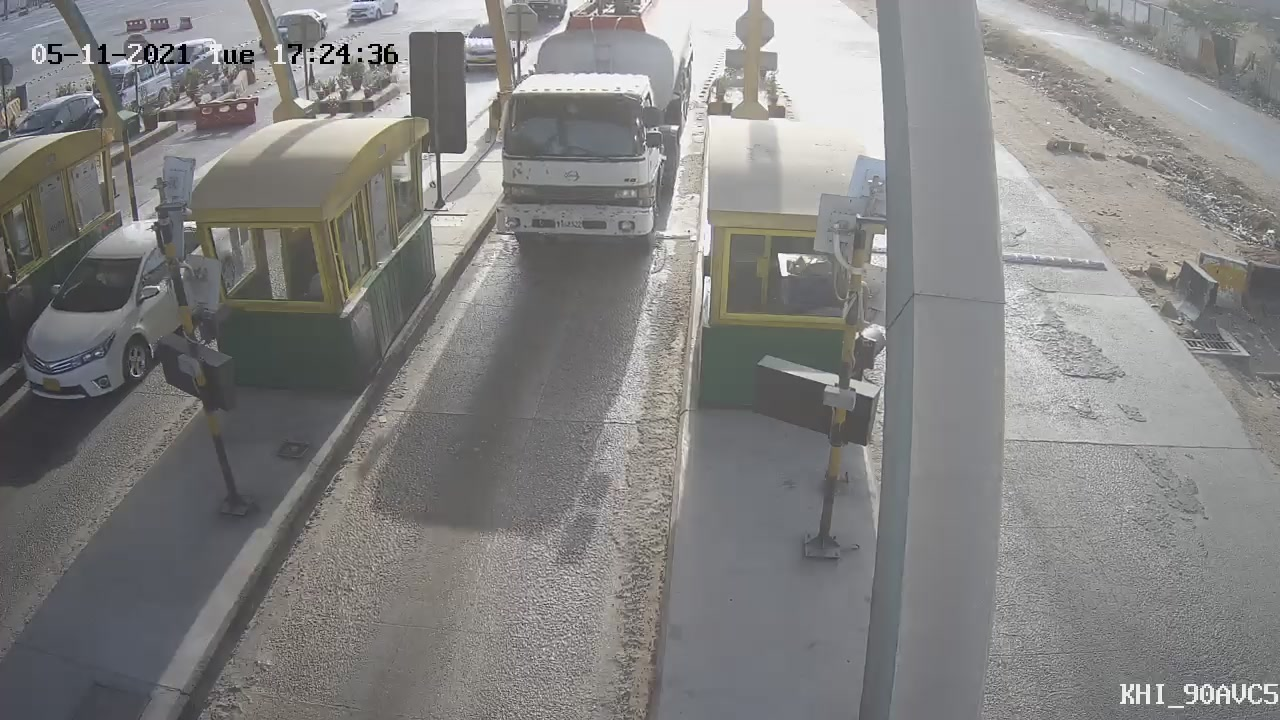F6: (461, 1, 717, 276)
